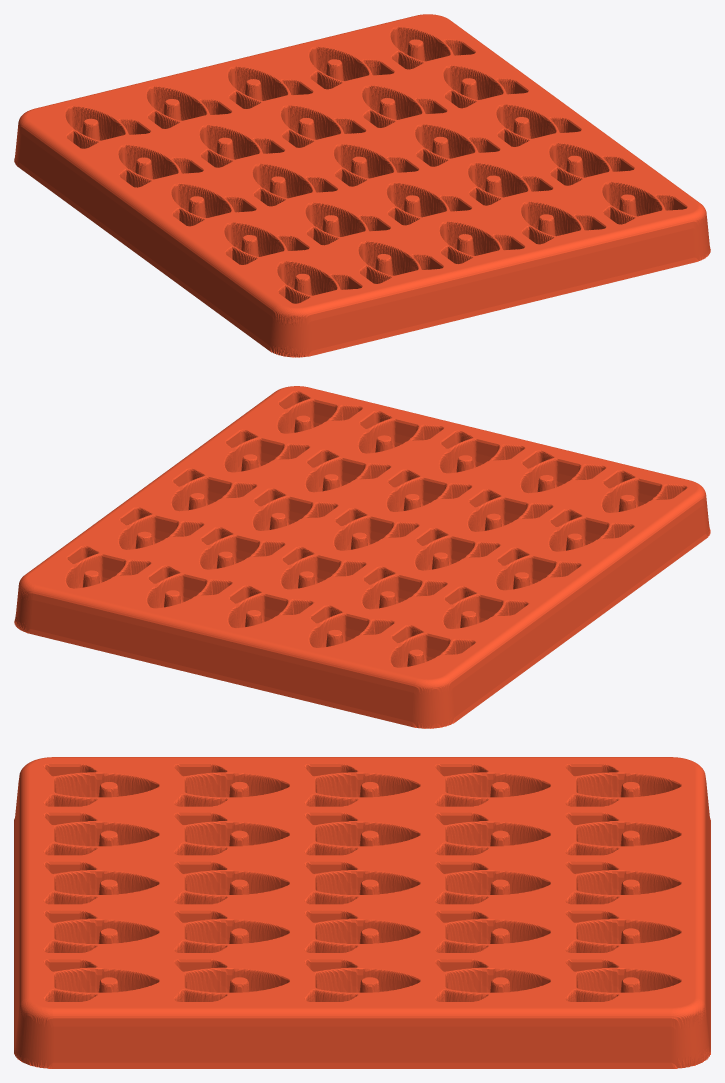
File: mold.glb
The picture shows the model from 3 angles, top to bottom: view 1: azimuth 30°, elevation 25°; view 2: azimuth 150°, elevation 25°; view 3: azimuth 270°, elevation 25°; orthographic projection. The views are drawn at different scales.
Parts seen in each view (by area): view 1: geometry_0; view 2: geometry_0; view 3: geometry_0.
Boxes of the visible parts, x1,y1,x2,y2 form: geometry_0: (14, 14, 710, 357); geometry_0: (14, 386, 710, 728); geometry_0: (14, 757, 710, 1068).
Bounding box in the file's own units: 0.1415 × 0.0136 × 0.1584.
